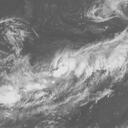cyclone: (48, 51, 97, 93)
